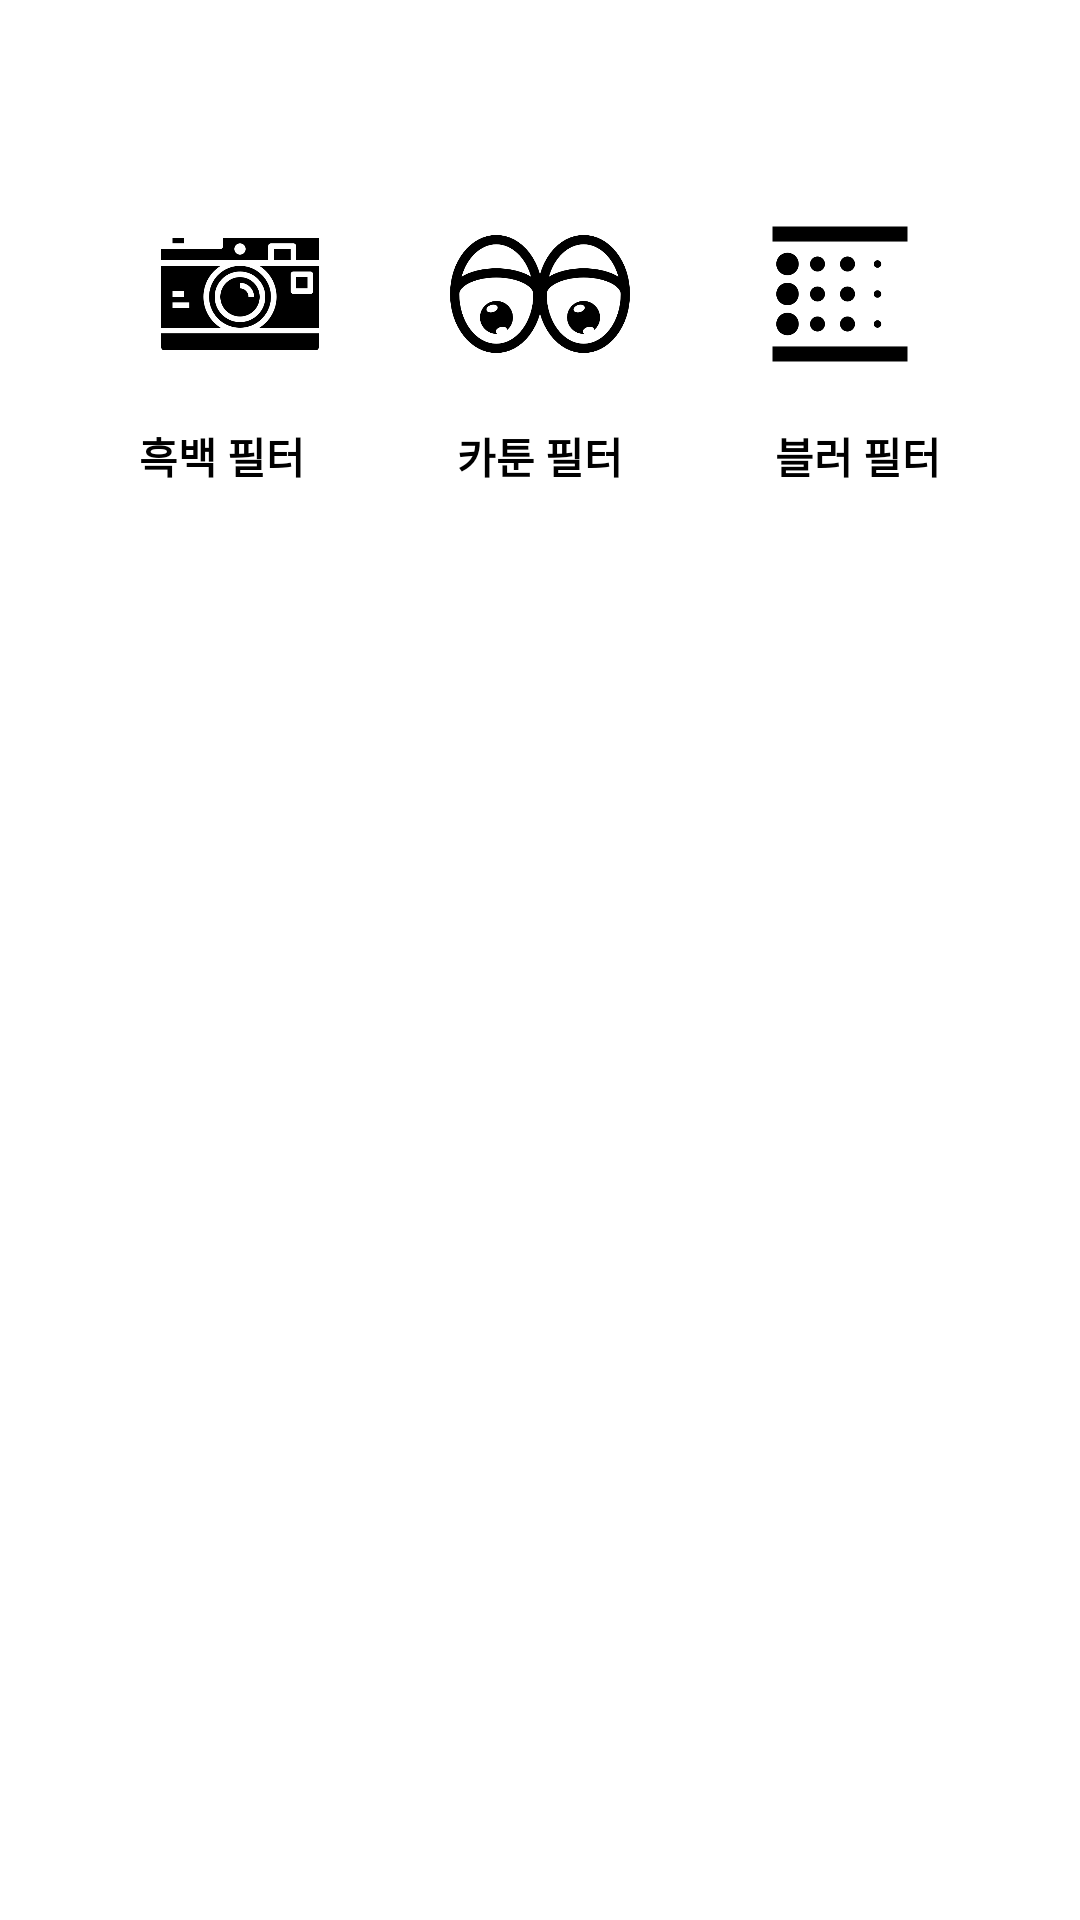

Named icons in this screenshot (1080px x 1920px) and their centers, [x,y]:
blur cam: [840,294]
cam: [240,294]
